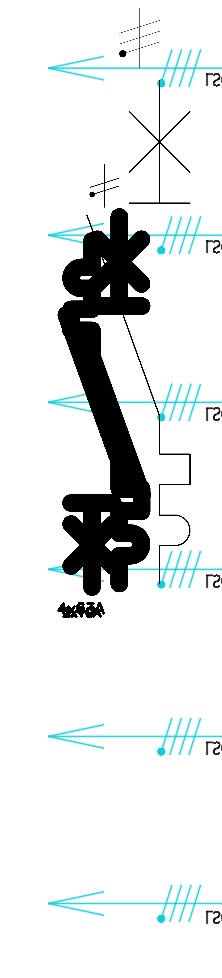interruptor_termomagnetico: (74, 67, 203, 596), (57, 207, 151, 592), (62, 232, 151, 596)
